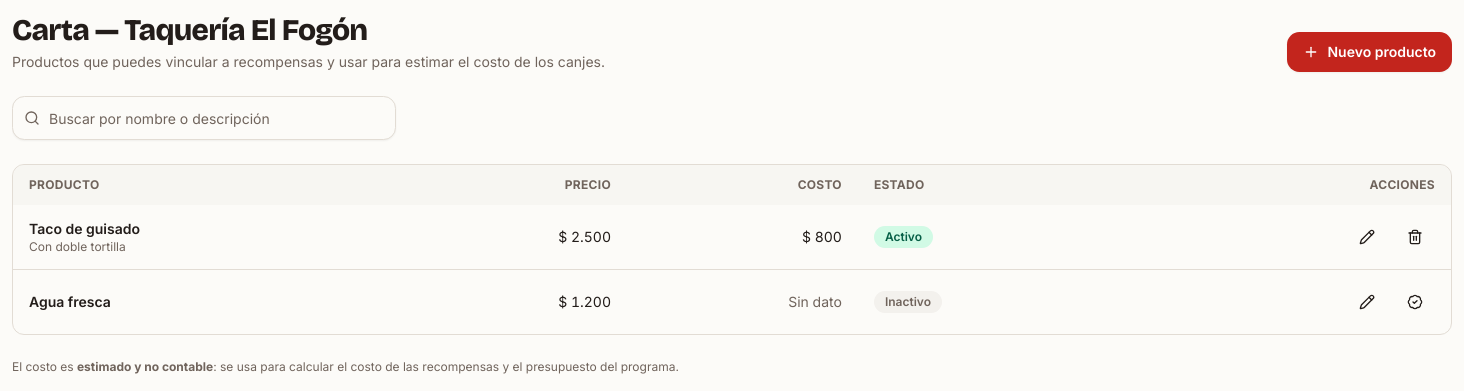
ProductsPage › filtra productos por nombre
This screenshot has width=1464, height=391.
Type "taco" into the field named "Buscar productos" at x=204, y=118, box x1=12 y1=96 x2=396 y2=140
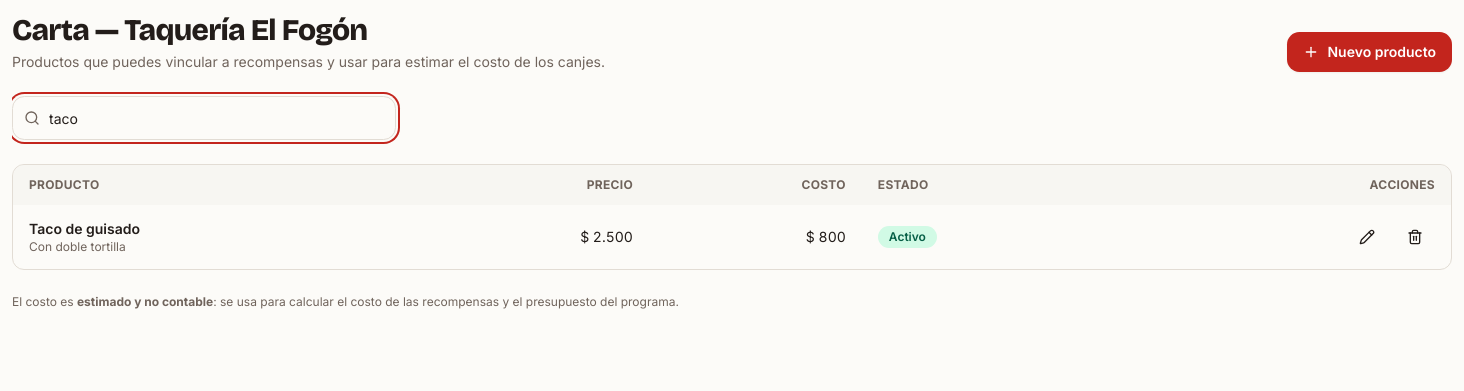
expect the text "Taco de guisado" is shown: met, box x1=29 y1=220 x2=140 y2=237
expect the text "Agua fresca" is gone: met
